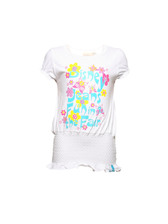clothoes: (38, 41, 133, 180)
